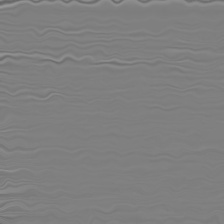cavities: (51, 66, 130, 129)
